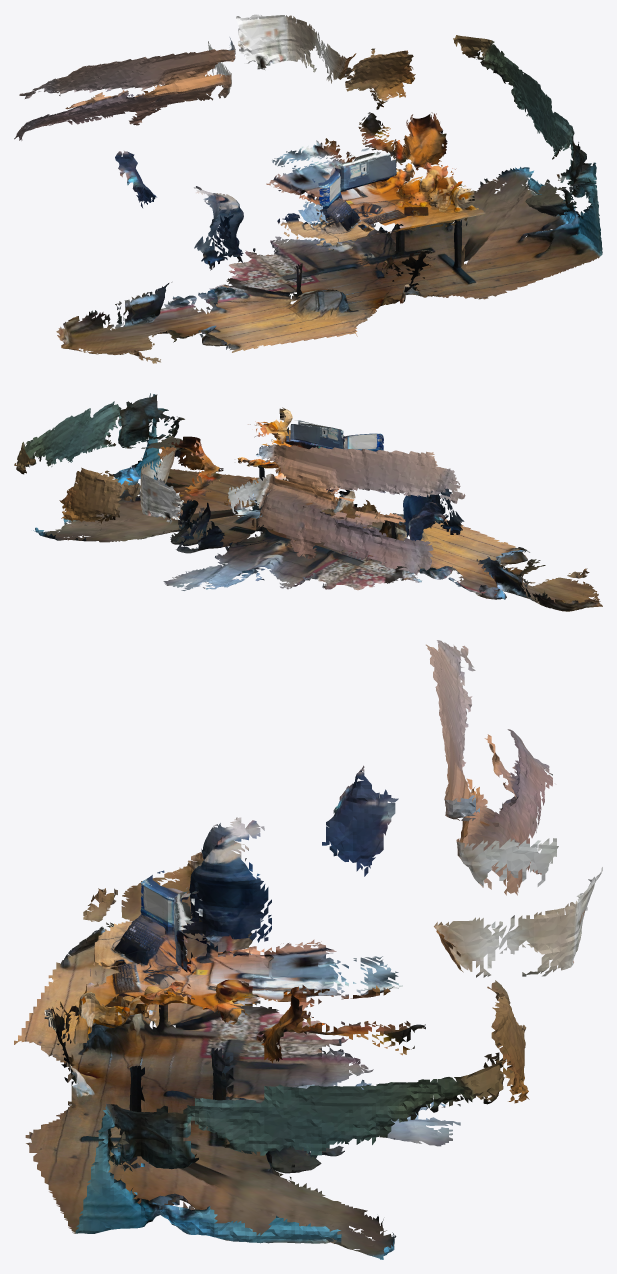
3 views of the same model, one above another, from view 1: azimuth 30°, elevation 25°; view 2: azimuth 150°, elevation 25°; view 3: azimuth 270°, elevation 25° (orthographic). The views are drawn at different scales.
Visible parts, largest first — view 1: mesh; view 2: mesh; view 3: mesh.
Part boxes in pixels (left/top/right/bottom): mesh: left=14, top=14, right=602, bottom=363; mesh: left=14, top=393, right=602, bottom=611; mesh: left=14, top=640, right=602, bottom=1259.
Size of the model in its own units: 6.01 by 2.16 by 3.82.
1 material, 1 textured.
